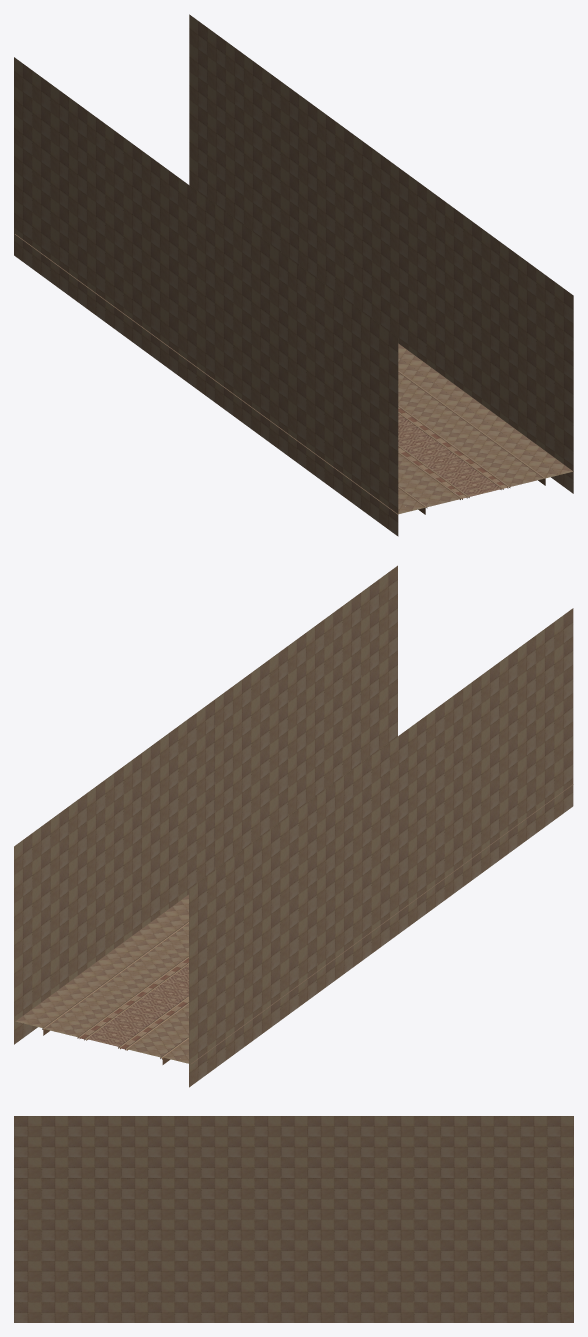
File: qingti.FBX
3 views of the same model, one above another, from view 1: azimuth 30°, elevation 25°; view 2: azimuth 150°, elevation 25°; view 3: azimuth 270°, elevation 25° (orthographic). The views are drawn at different scales.
Parts seen in each view (by area): view 1: Object035; view 2: Object035; view 3: Object035.
Boxes of the visible parts, x1,y1,x2,y2 form: Object035: (14,14,573,536); Object035: (14,565,573,1087); Object035: (14,1116,573,1322).
Bounding box in the file's own units: 4590 × 4935 × 17320.
